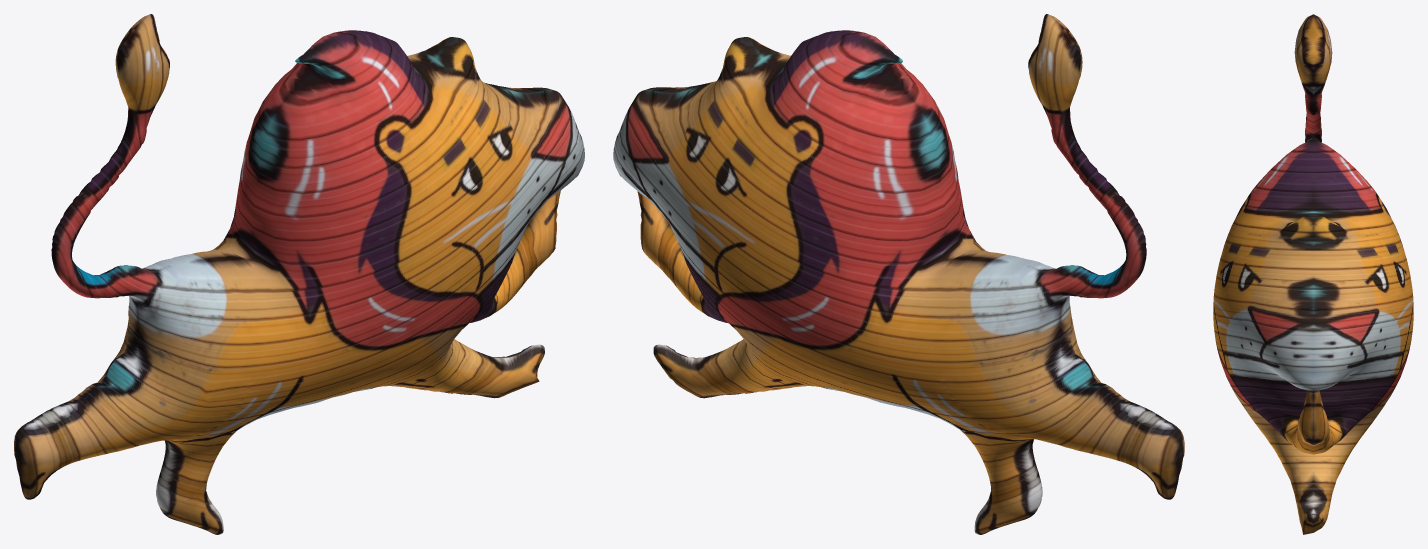
File: Lion11.glb
3 views of the same model, side by side, from view 1: azimuth 30°, elevation 25°; view 2: azimuth 150°, elevation 25°; view 3: azimuth 270°, elevation 25° (orthographic). The views are drawn at different scales.
Bounding box in the file's own units: 5.06 × 4.61 × 1.92.
1 material, 1 textured.
